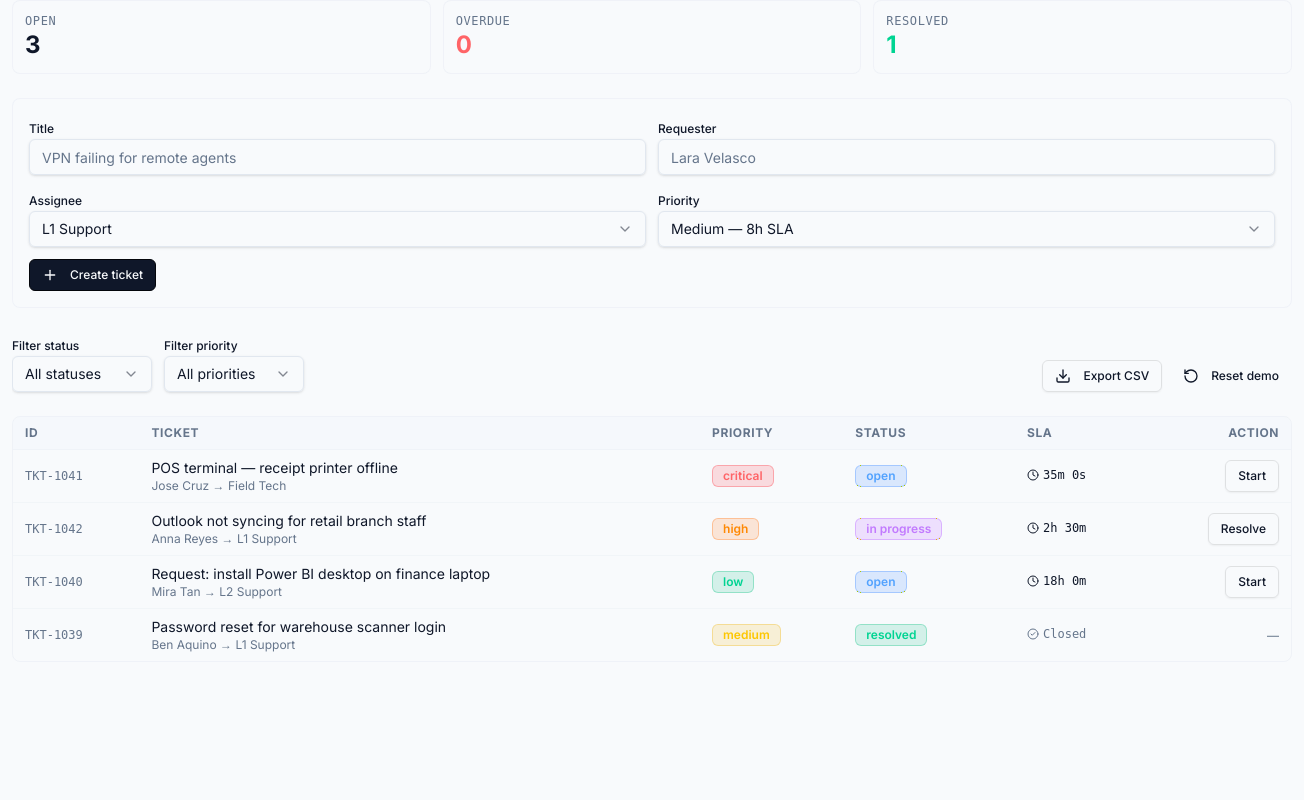
Test: TicketingDemo (component) › create form adds a new ticket and clears the title/requester fields
The width and height of the screenshot is (1304, 800).
Step 1. Type "Printer offline in clinic 2" into the field labelled "Title" → {"x": 338, "y": 157}, box top-left (29, 139), bottom-right (646, 175)
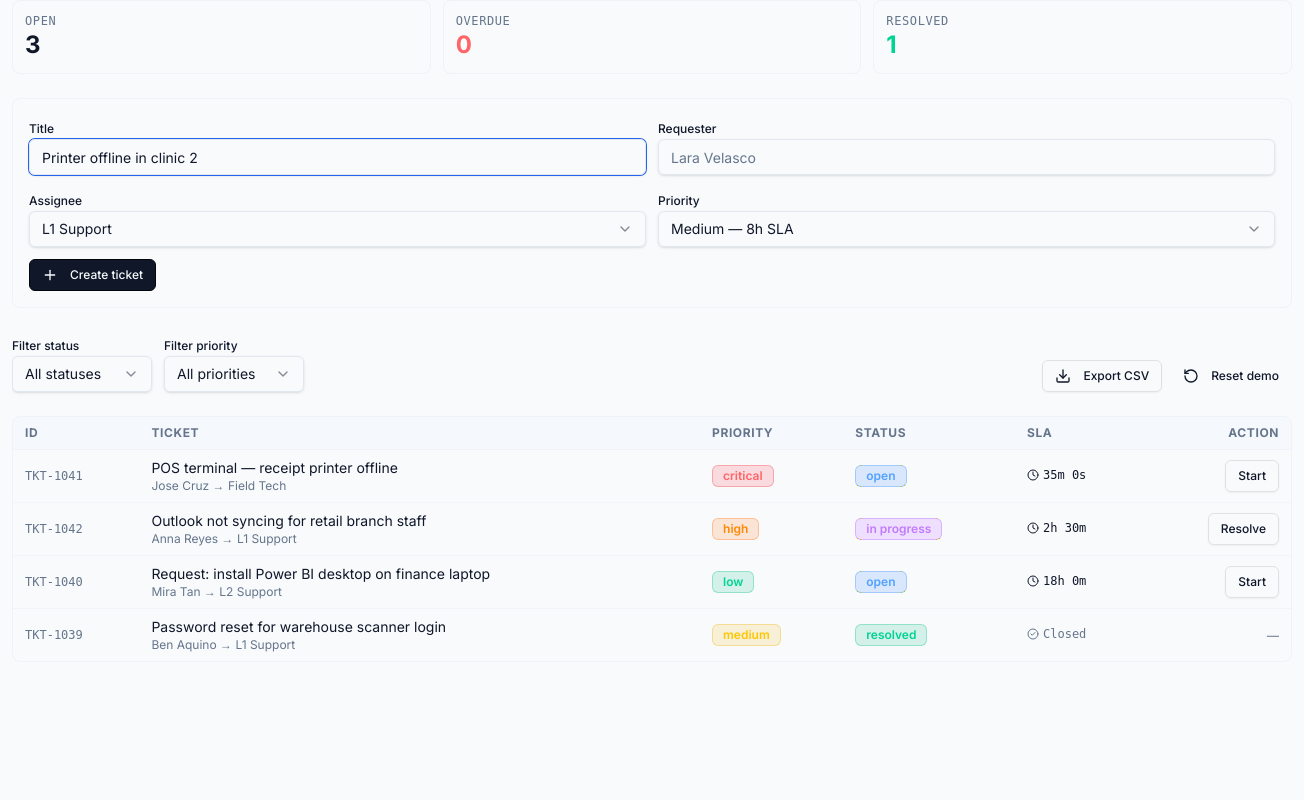
Step 2. Type "Nurse station" into the field labelled "Requester" → {"x": 966, "y": 157}, box top-left (658, 139), bottom-right (1275, 175)
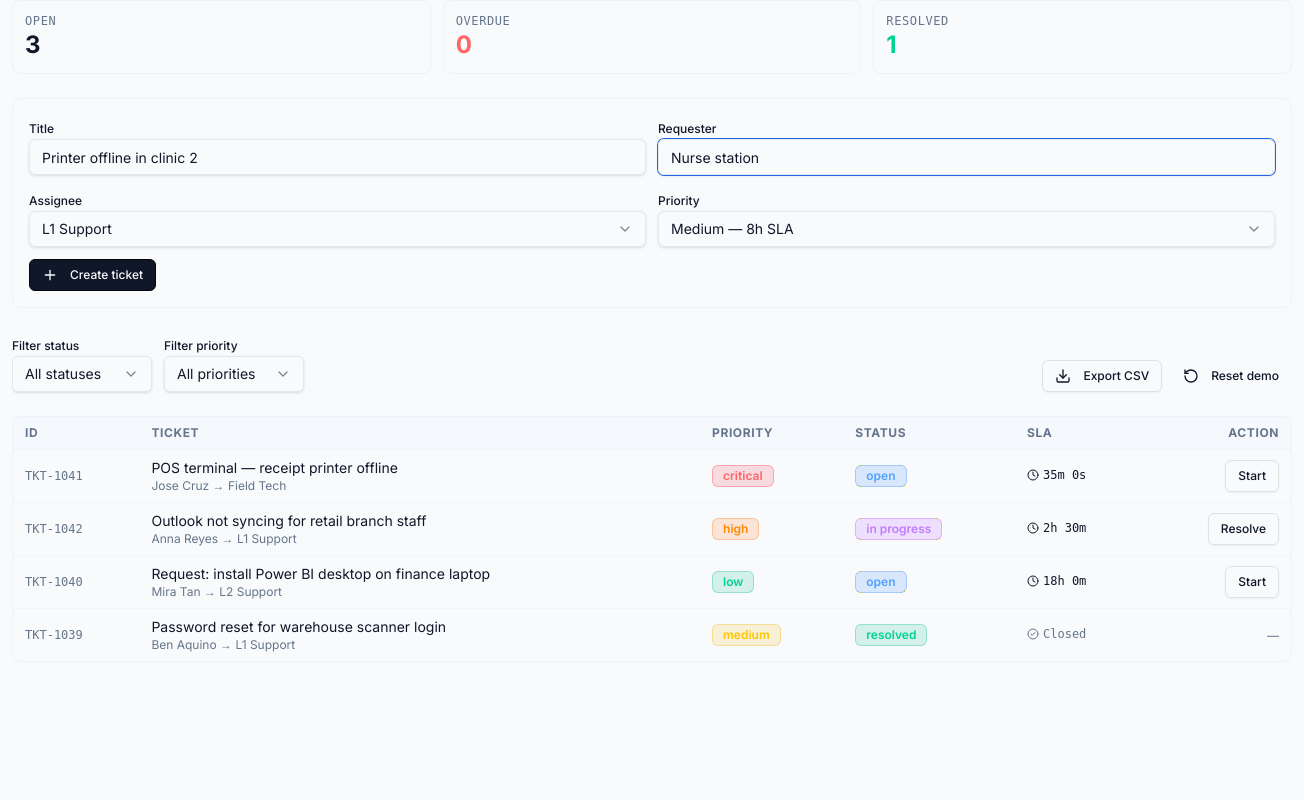
Step 3. Click the button "Create ticket" → {"x": 92, "y": 275}, box top-left (29, 259), bottom-right (156, 291)
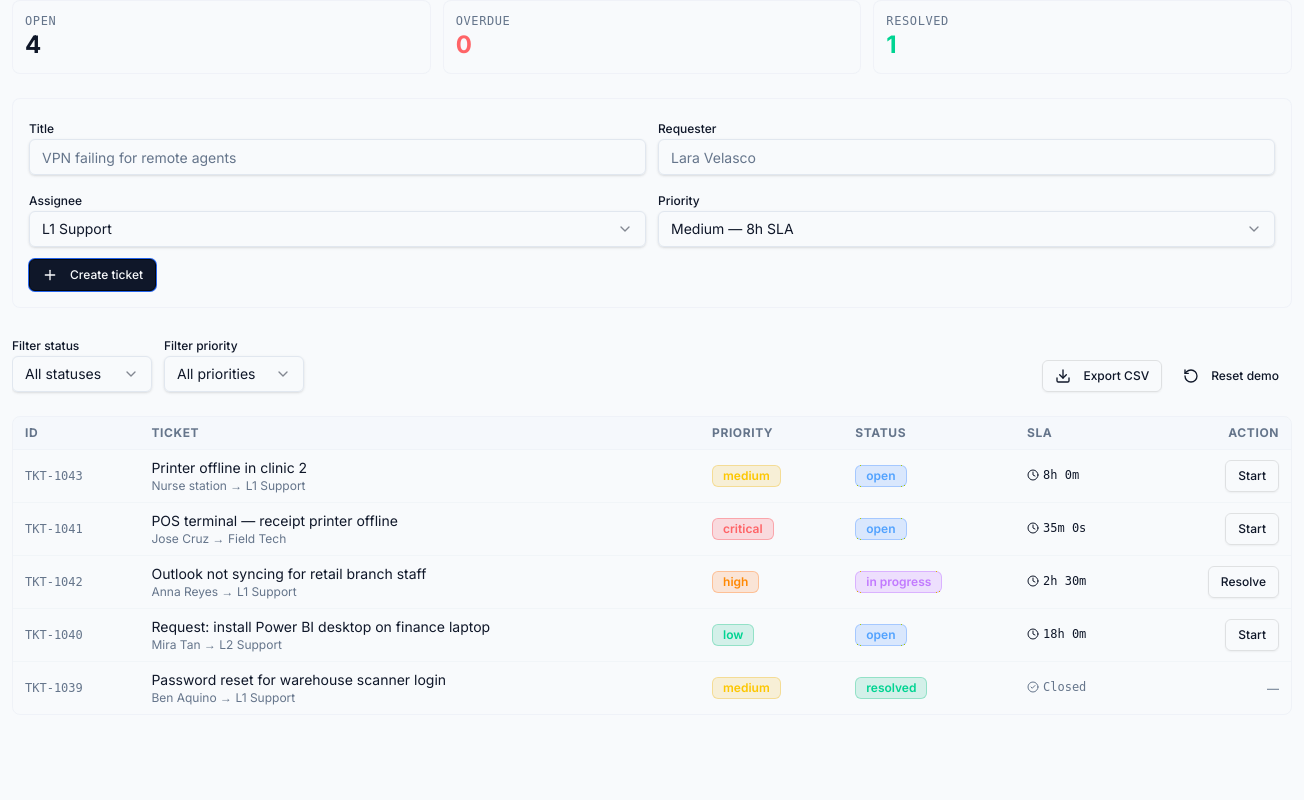
Check: the text "TKT-1043" is shown, box top-left (13, 450), bottom-right (139, 502)
Check: the text "Printer offline in clinic 2" is shown, box top-left (151, 459), bottom-right (307, 476)
Check: the field labelled "Title" is empty, box top-left (29, 139), bottom-right (646, 175)
